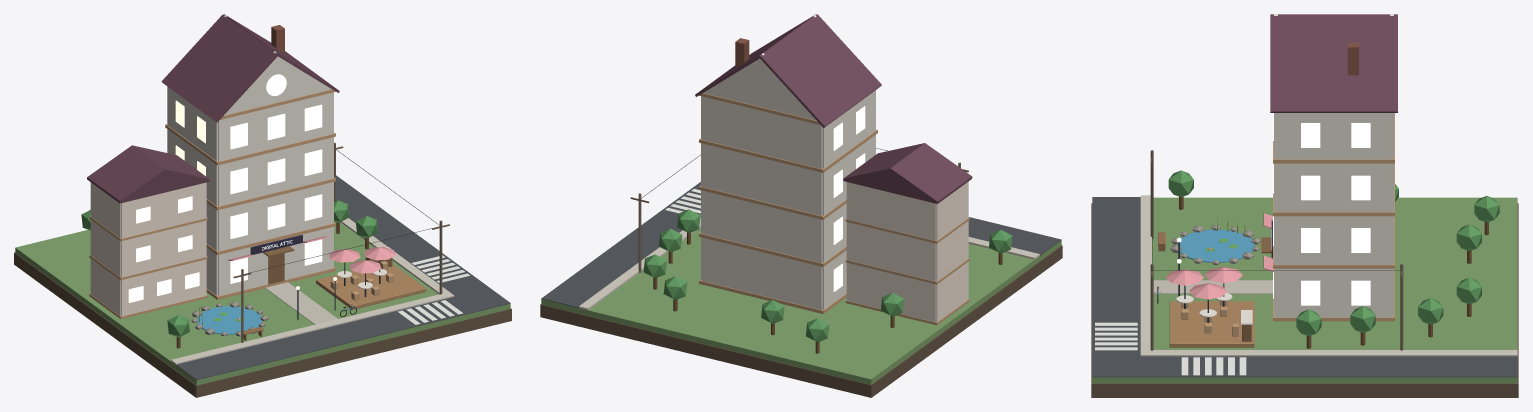
The model's file is office.glb.
3 views of the same model, side by side, from view 1: azimuth 30°, elevation 25°; view 2: azimuth 150°, elevation 25°; view 3: azimuth 270°, elevation 25° (orthographic). The views are drawn at different scales.
Visible parts, largest first — view 1: island_ground, island_rim, attic_roof_left, island_road_south, island_road_east, dorm_roof, house_front_f2, house_front_f3, house_front_f4, house_front_f1, dorm_front_f2, dorm_front_f3 (+29 smaller); view 2: island_ground, island_rim, attic_roof_left, house_wall_back_f1, house_wall_back_f2, house_wall_back_f3, house_wall_back_f4, island_road_east, dorm_roof, dorm_wall_back_f2, dorm_wall_back_f3, dorm_wall_back_f1 (+16 smaller); view 3: island_ground, attic_roof_right, island_road_east, island_road_south, island_rim, house_wall_right_f3, house_wall_right_f2, house_wall_right_f1, house_wall_right_f4, deck_floor, island_sidewalk_east, island_pond_water (+25 smaller).
Part boxes in pixels (box(x1,y1,x2,y2)): island_ground: box(15, 221, 510, 385); island_rim: box(14, 252, 511, 397); attic_roof_left: box(161, 14, 278, 122); island_road_south: box(176, 296, 493, 380); island_road_east: box(336, 175, 510, 311); dorm_roof: box(87, 145, 209, 201); house_front_f2: box(218, 182, 333, 251); house_front_f3: box(218, 137, 333, 206); house_front_f4: box(218, 92, 333, 161); house_front_f1: box(218, 227, 333, 295); dorm_front_f2: box(121, 220, 206, 277); dorm_front_f3: box(121, 182, 206, 238); island_ground: box(541, 228, 1061, 384); island_rim: box(540, 245, 1062, 397); attic_roof_left: box(759, 14, 881, 127); house_wall_back_f1: box(701, 237, 822, 309); house_wall_back_f2: box(701, 190, 822, 262); house_wall_back_f3: box(701, 143, 822, 215); house_wall_back_f4: box(701, 96, 822, 168); island_road_east: box(541, 182, 700, 307); dorm_roof: box(843, 143, 971, 201); dorm_wall_back_f2: box(847, 222, 936, 281); dorm_wall_back_f3: box(847, 182, 936, 240); dorm_wall_back_f1: box(847, 263, 936, 322); island_ground: box(1092, 197, 1517, 383); attic_roof_right: box(1270, 15, 1397, 112); island_road_east: box(1092, 356, 1517, 377); island_road_south: box(1092, 197, 1140, 377); island_rim: box(1091, 203, 1518, 397); house_wall_right_f3: box(1276, 163, 1391, 212); house_wall_right_f2: box(1276, 216, 1391, 264); house_wall_right_f1: box(1276, 268, 1391, 317); house_wall_right_f4: box(1276, 113, 1391, 159); deck_floor: box(1169, 301, 1254, 347); island_sidewalk_east: box(1140, 350, 1517, 356); island_pond_water: box(1177, 229, 1254, 262).
Size of the model in its own units: 22.1 by 16.75 by 22.1.
